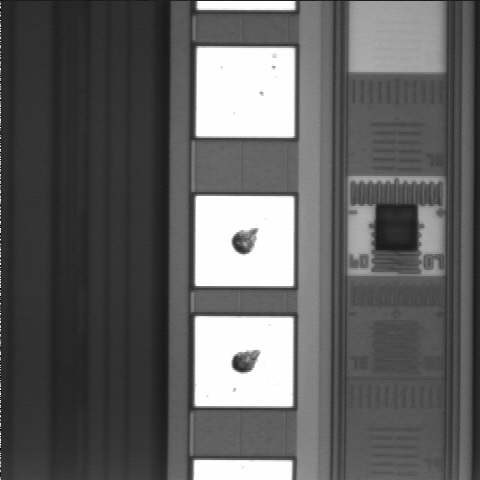pad: (196, 47, 295, 138), (195, 196, 294, 286), (195, 316, 293, 406)
